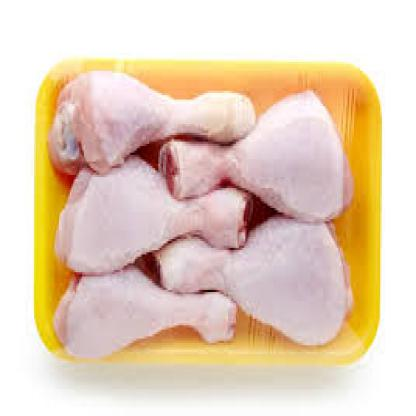chicken: (56, 80, 362, 352)
